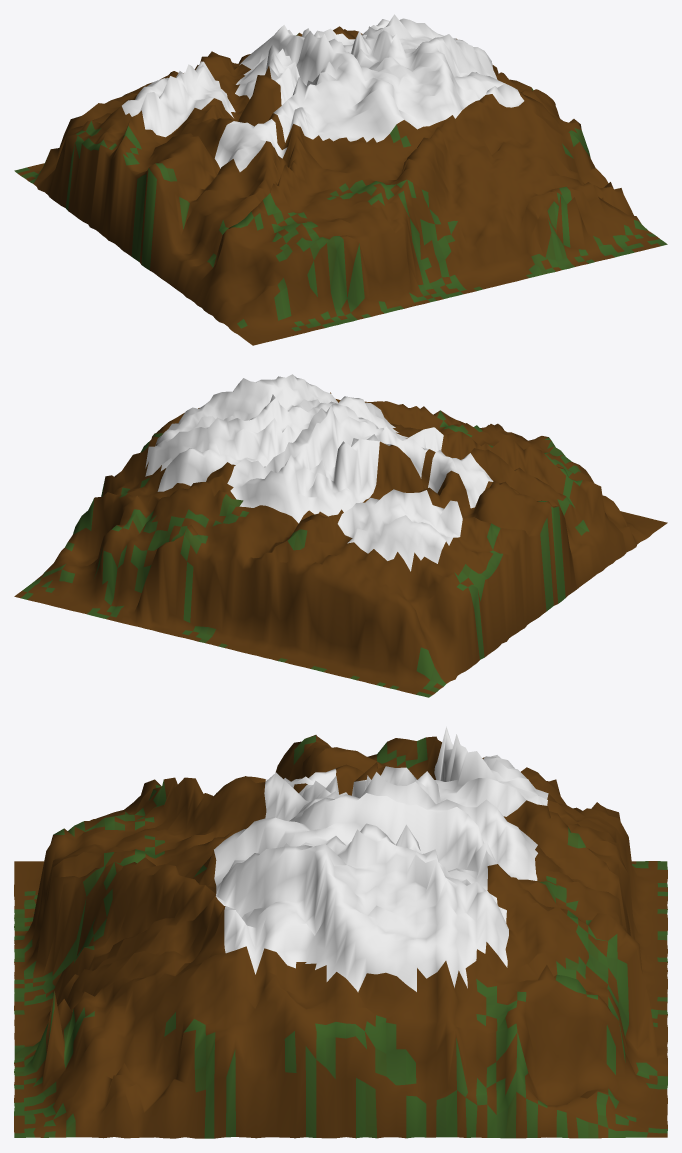
File: S0.mountain.3.glb
The picture shows the model from 3 angles, top to bottom: view 1: azimuth 30°, elevation 25°; view 2: azimuth 150°, elevation 25°; view 3: azimuth 270°, elevation 25°; orthographic projection. The views are drawn at different scales.
Parts seen in each view (by area): view 1: Landscape.001; view 2: Landscape.001; view 3: Landscape.001.
Boxes of the visible parts, left/top/right/bottom form: Landscape.001: left=14, top=14, right=667, bottom=345; Landscape.001: left=14, top=374, right=667, bottom=697; Landscape.001: left=14, top=726, right=667, bottom=1138.
Bounding box in the file's own units: 302 × 114 × 300.
